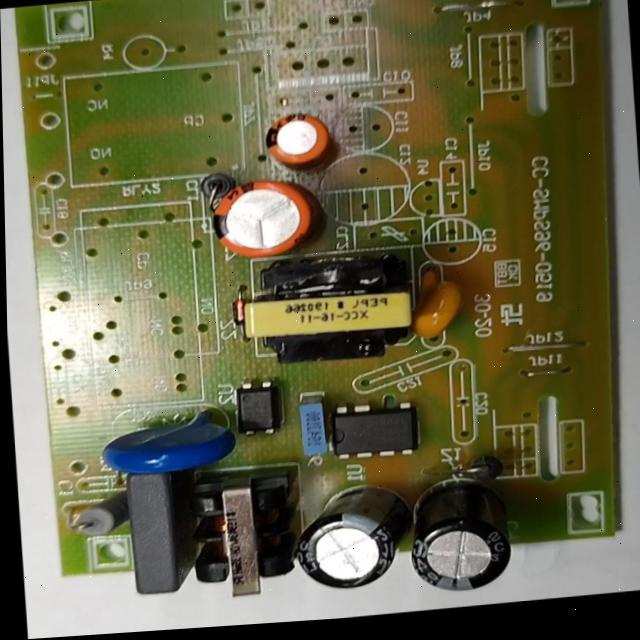Cap1: (207, 168, 317, 265)
Cap2: (253, 105, 335, 174)
Cap3: (293, 481, 411, 598)
Cap4: (406, 475, 514, 597)
MOSFET: (327, 397, 425, 465)
Mov: (95, 403, 239, 483)
Resistor: (66, 487, 136, 539)
Transformer: (236, 245, 420, 373), (184, 462, 301, 602)
